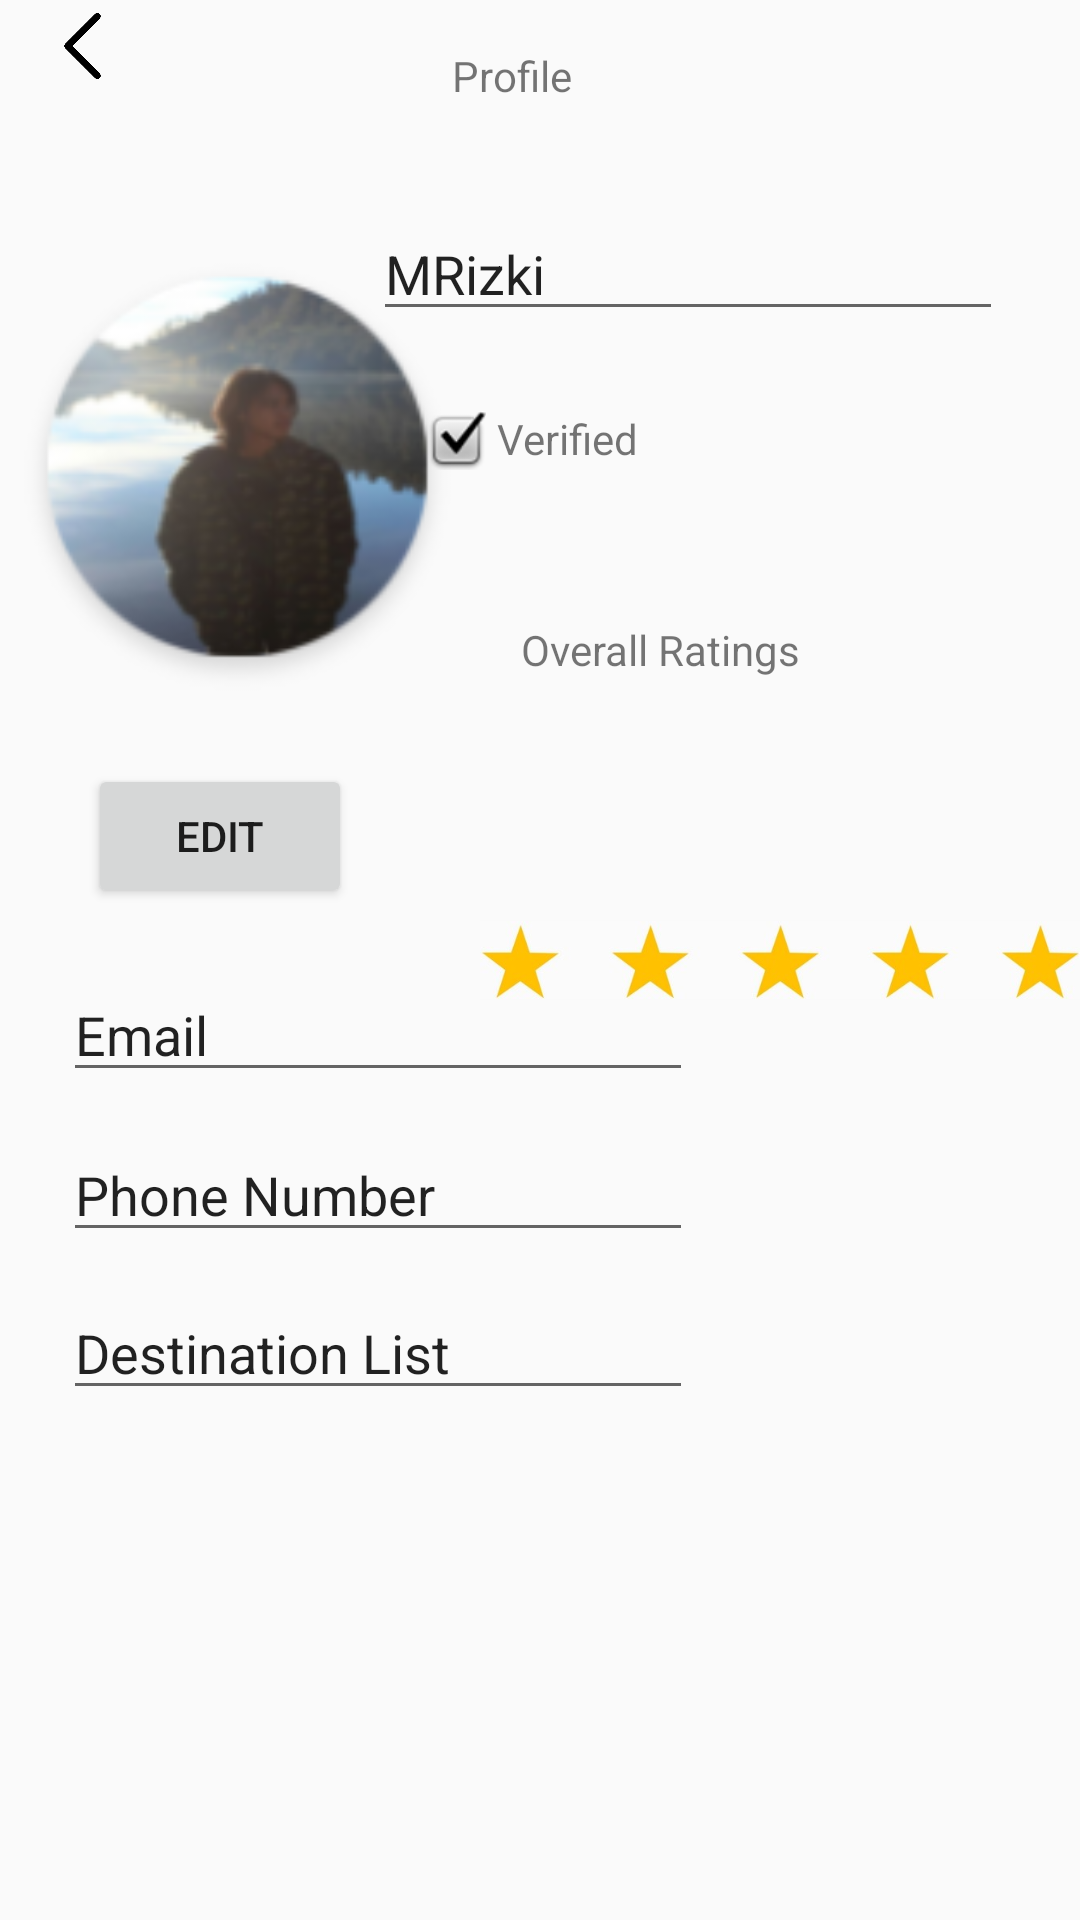

Screen size 1080px×1920px. Icon name, then its center in pixels as (x,y):
back: (82,46)
